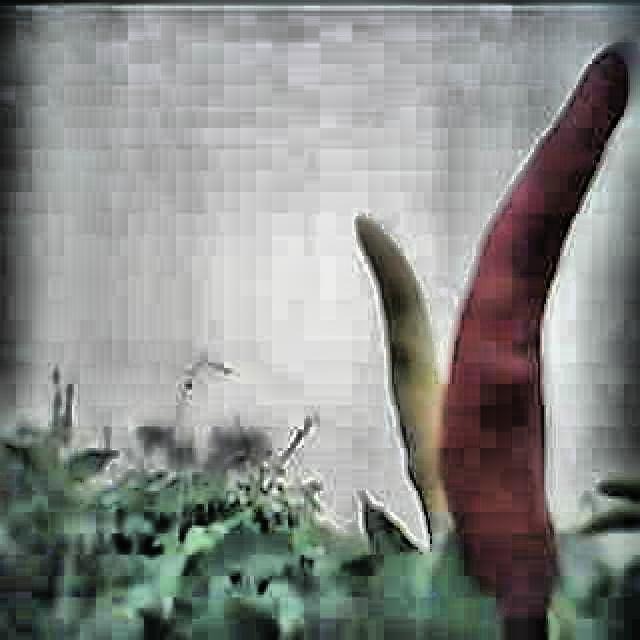Cabai: (447, 43, 611, 555)
